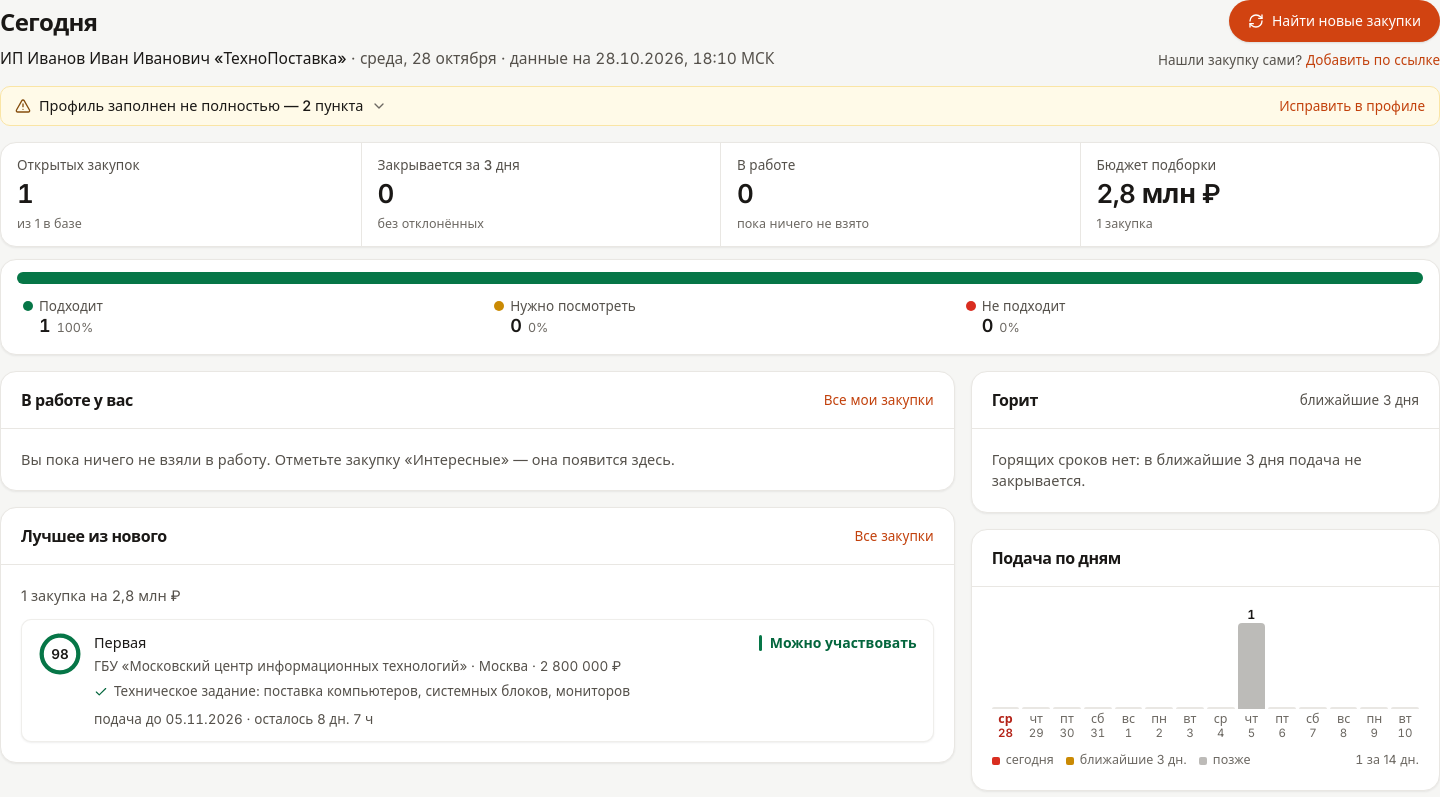
DashboardView — плашка замечаний к профилю › раскрывается в тот же ProfileAuditNotice
The image size is (1440, 797).
Click the button "Профиль заполнен не полностью — 2 пункта": coordinates (171, 106) [15, 95, 1267, 117]
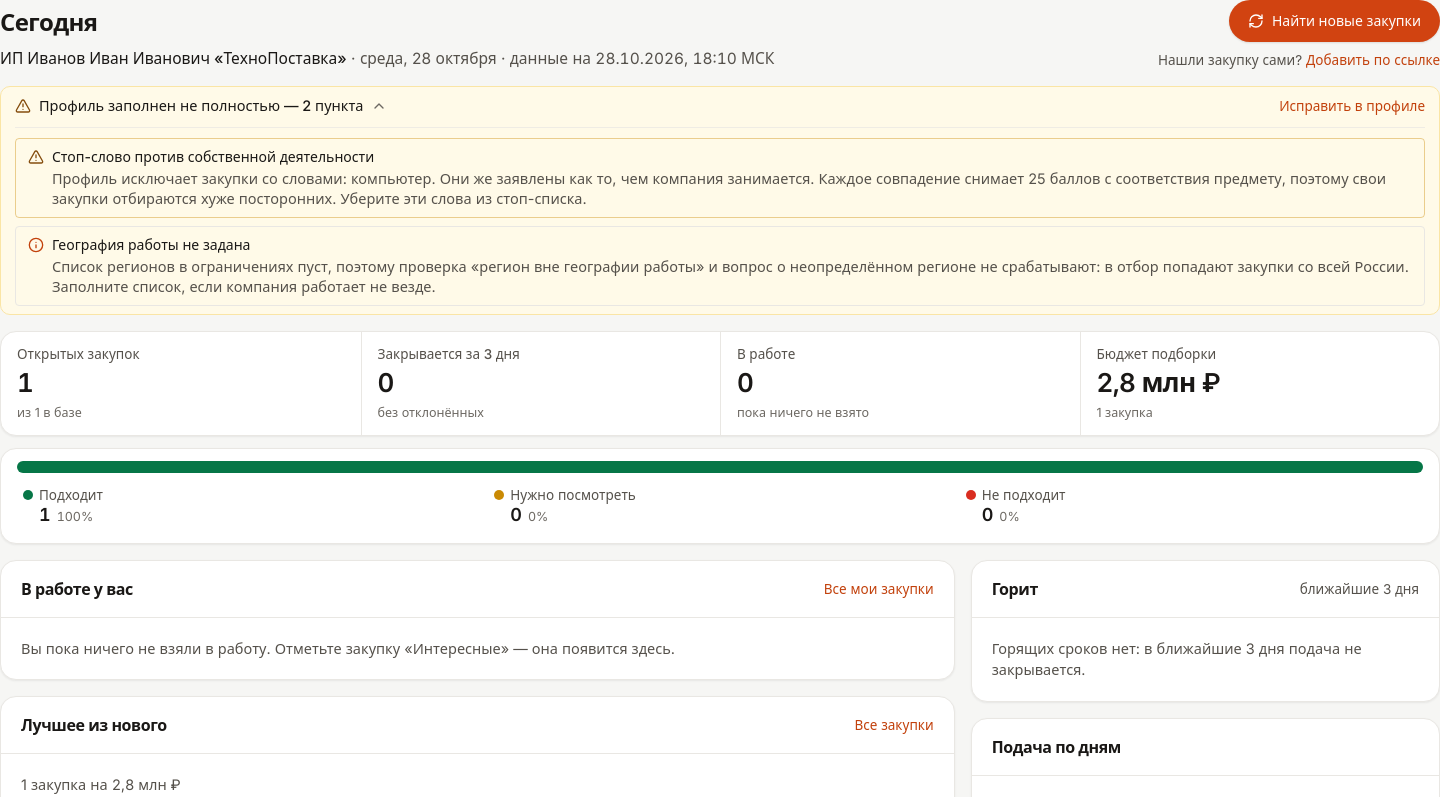
Expected: the button "Профиль заполнен не полностью — 2 пункта" is expanded, [15, 95, 1267, 117]
Expected: the text "Стоп-слово против собственной деятельности" is shown, [52, 148, 374, 165]
Expected: the element with test id "profile-audit" shows "География работы не задана", [52, 236, 250, 253]
